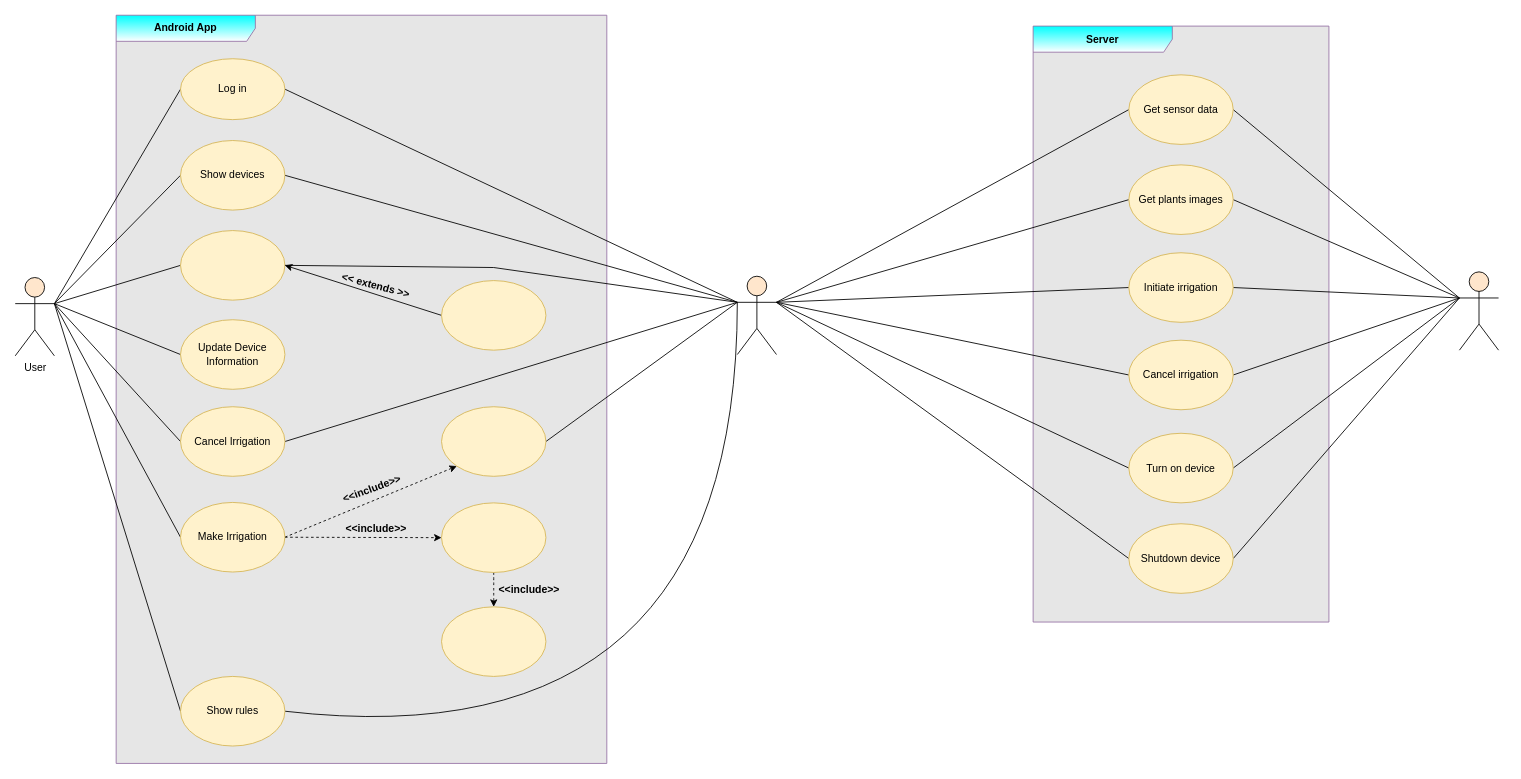
This 1521x779 diagram has some shape labels left out. The shapes that lost their labels are listed below. From the top down, each one's box as (x1, y1, x2, y2) in pixels, then its label:
(180, 230, 285, 300): Monitorize device
(441, 280, 546, 350): Refresh information
(736, 275, 776, 355): Web Service
(1459, 271, 1499, 350): Arduino
(441, 406, 546, 476): Make Manual Irrigation
(441, 502, 546, 572): Make Conditional Irrigation
(441, 606, 546, 676): Create rule
